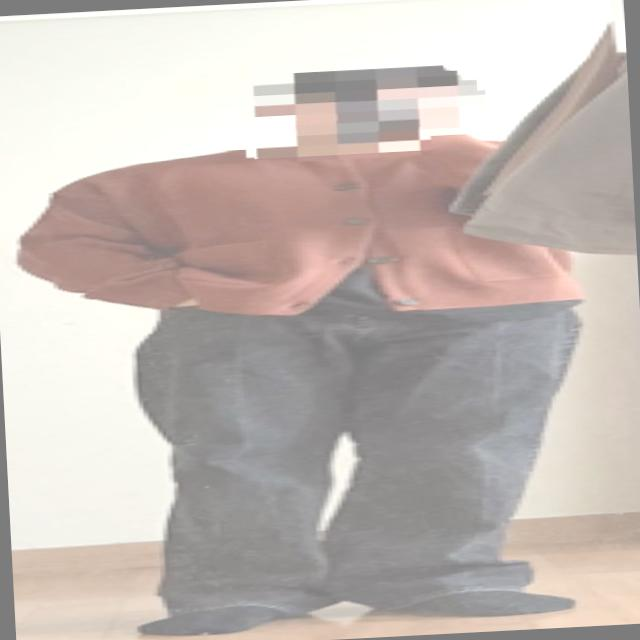cardigan: (0, 129, 599, 333)
denimpants: (121, 276, 576, 624)
